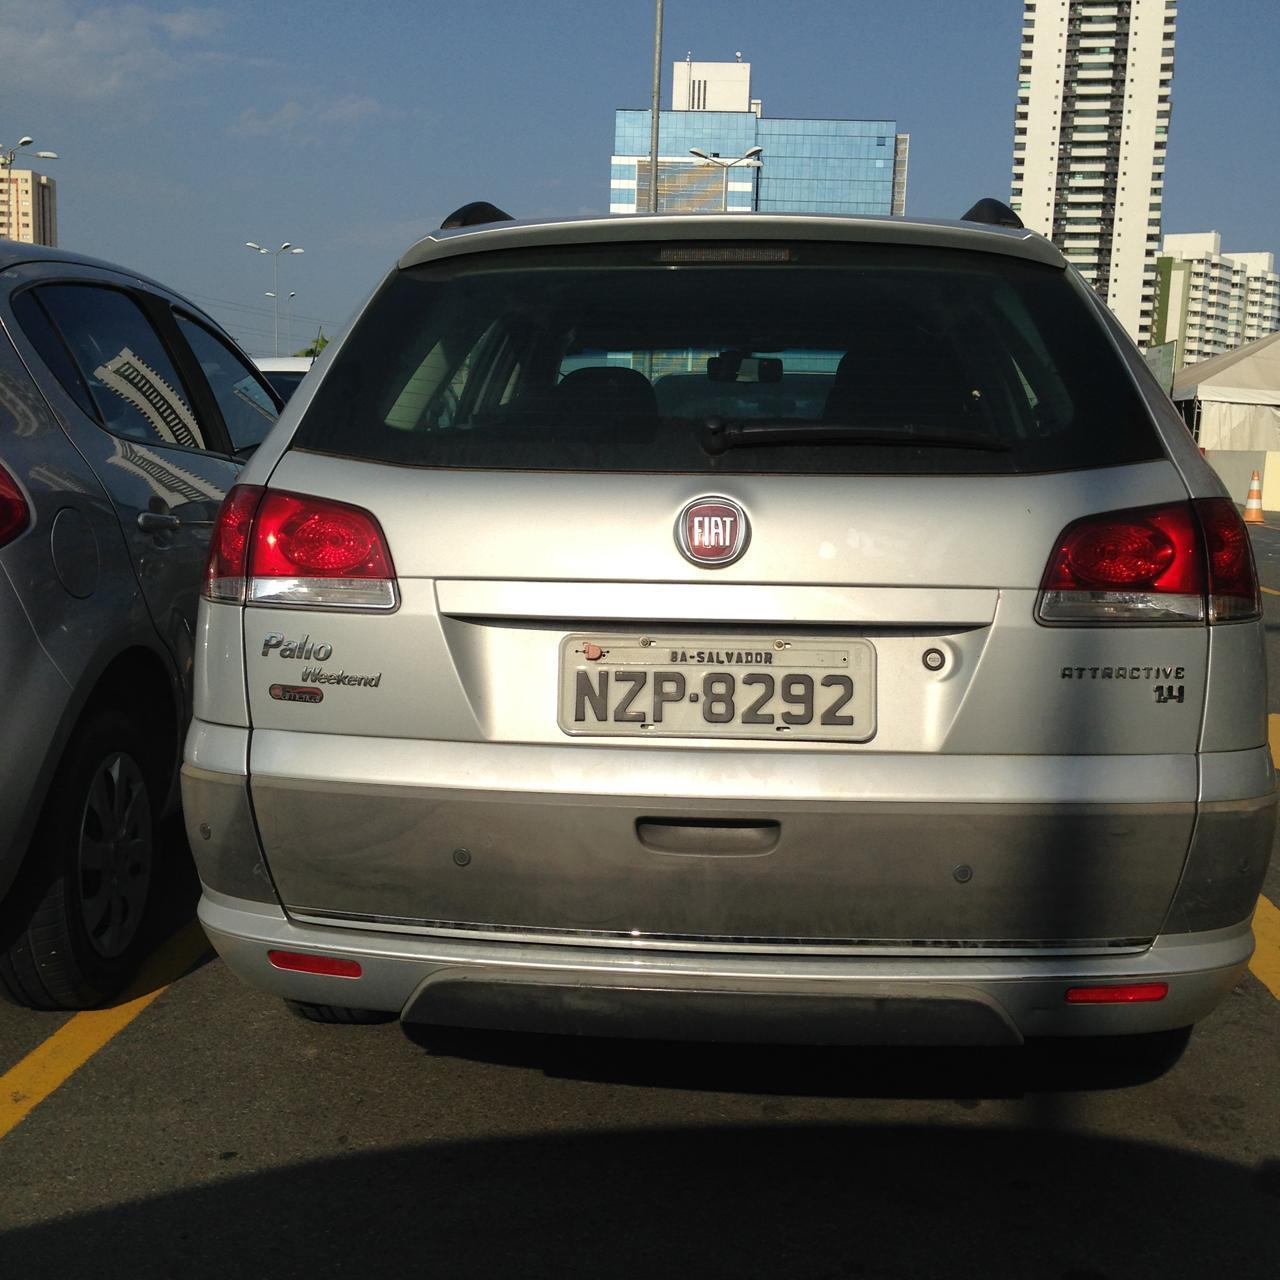placa de veiculo: (539, 603, 899, 775)
